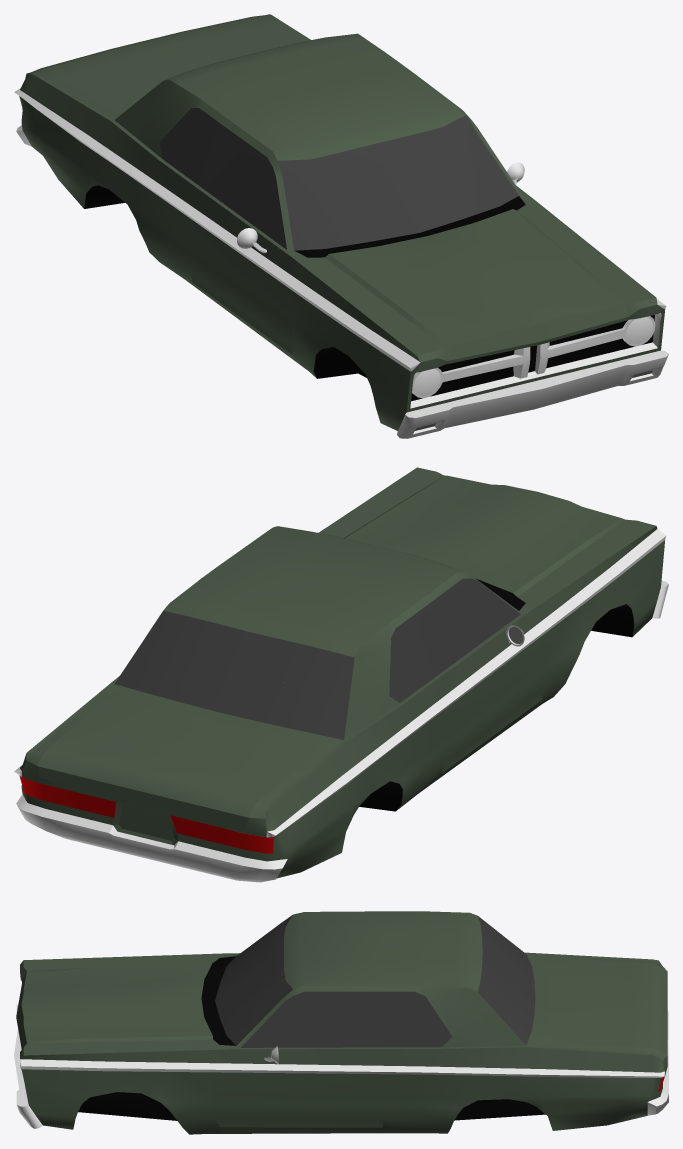
Rendered from belvedere.glb.
3 views of the same model, one above another, from view 1: azimuth 30°, elevation 25°; view 2: azimuth 150°, elevation 25°; view 3: azimuth 270°, elevation 25° (orthographic). The views are drawn at different scales.
Visible parts, largest first — view 1: belvedere; view 2: belvedere; view 3: belvedere.
Part boxes in pixels (x1,y1,x2,y2): belvedere: [14, 14, 668, 438]; belvedere: [14, 467, 668, 882]; belvedere: [14, 911, 668, 1134].
Bounding box in the file's own units: 1.65 × 0.9773 × 3.97.
4 materials, 1 textured.
